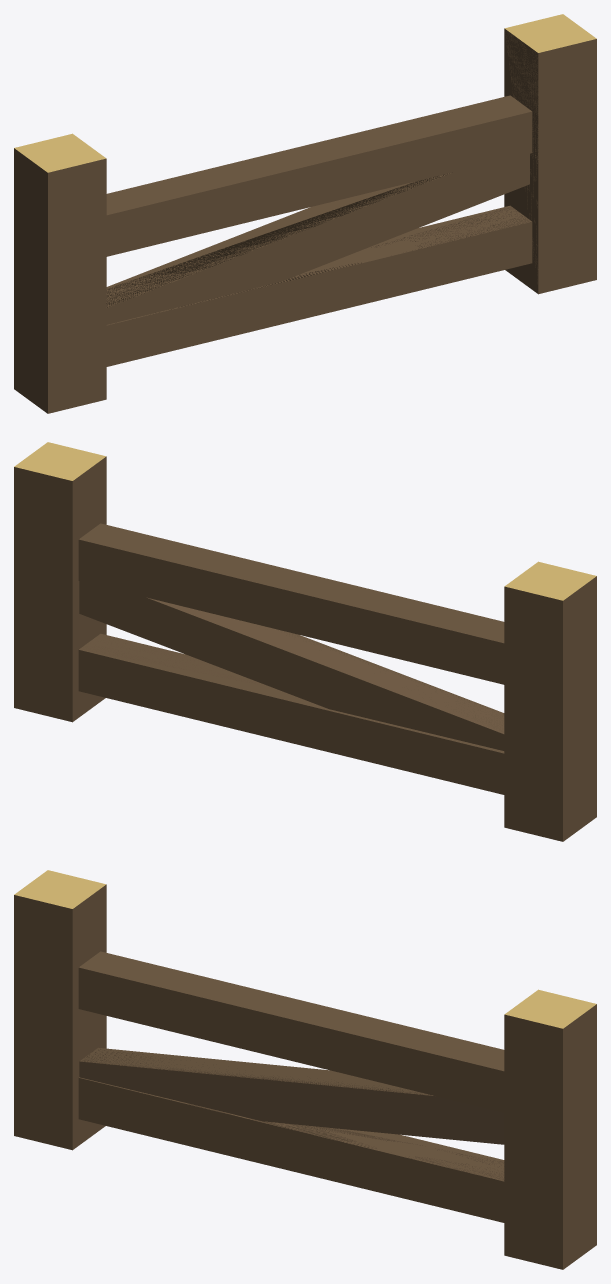
File: fence.fbx
The picture shows the model from 3 angles, top to bottom: view 1: azimuth 30°, elevation 25°; view 2: azimuth 150°, elevation 25°; view 3: azimuth 330°, elevation 25°; orthographic projection.
Visible parts, largest first — view 1: fence; view 2: fence; view 3: fence.
Boxes of the visible parts, x1,y1,x2,y2 form: fence: [14, 14, 596, 413]; fence: [14, 442, 596, 841]; fence: [14, 870, 596, 1269].
Size of the model in its own units: 199 by 83.37 by 21.24.
